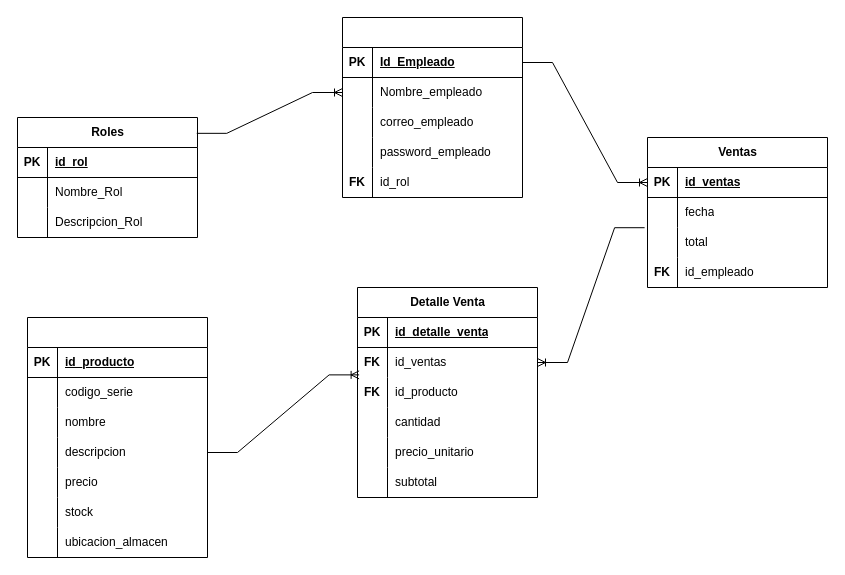
The diagram is 845 pixels wide and 575 high, and some of its shapes have lost their labels. Each missing label, with the box of its shape:
Empleados: (342, 16, 522, 198)
Productos: (26, 316, 208, 558)
